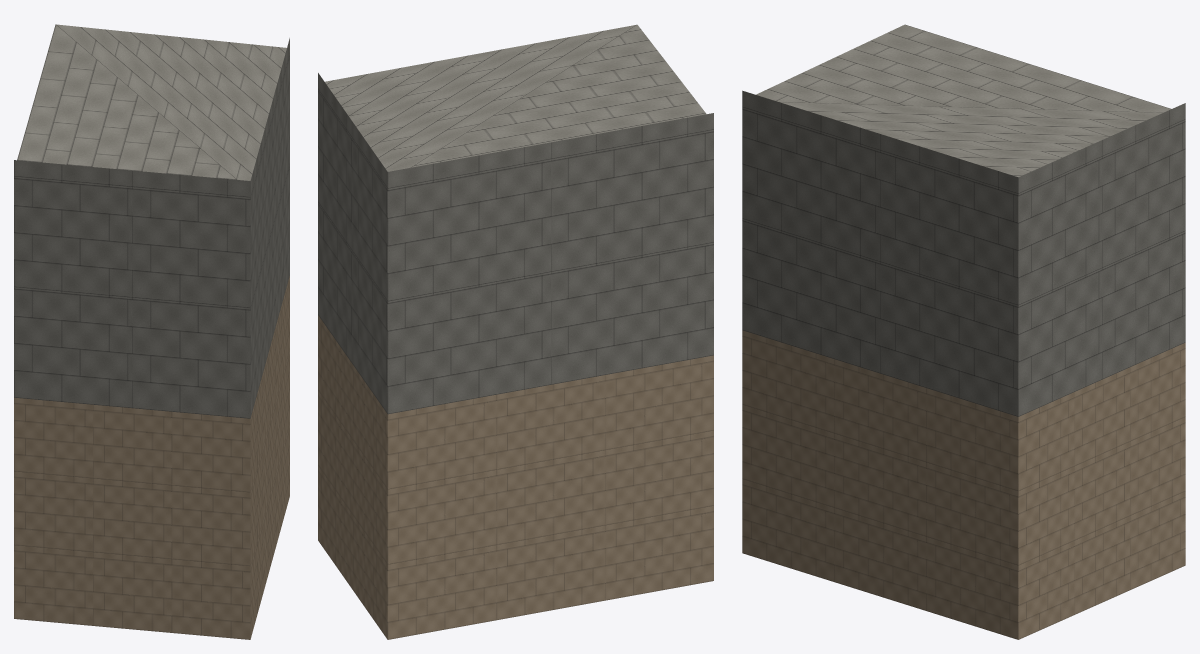
The model's file is bld_c16_43_452.gltf.
3 views of the same model, side by side, from view 1: azimuth 30°, elevation 25°; view 2: azimuth 150°, elevation 25°; view 3: azimuth 270°, elevation 25° (orthographic).
Parts seen in each view (by area): view 1: bld_c16_43_452; view 2: bld_c16_43_452; view 3: bld_c16_43_452.
Part boxes in pixels (x1,y1,x2,y2): bld_c16_43_452: [14, 24, 289, 639]; bld_c16_43_452: [318, 24, 713, 639]; bld_c16_43_452: [742, 24, 1185, 639].
Size of the model in its own units: 8.01 by 10.58 by 9.19.
4 materials, 4 textured.
